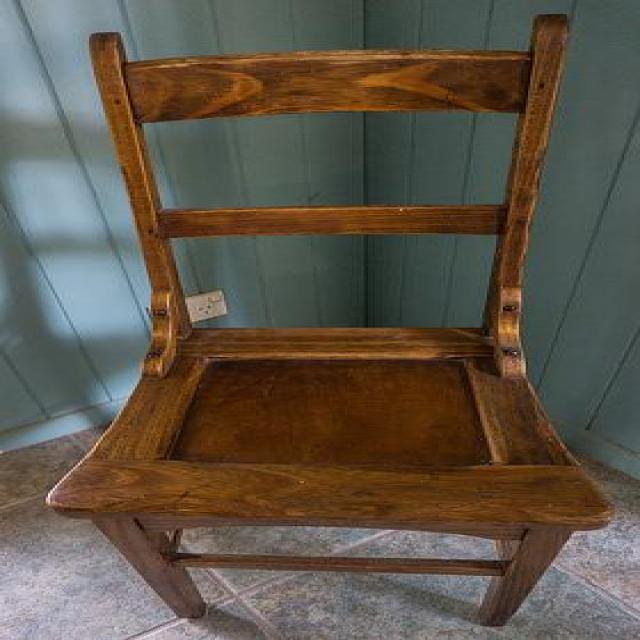chair: (41, 11, 616, 631)
